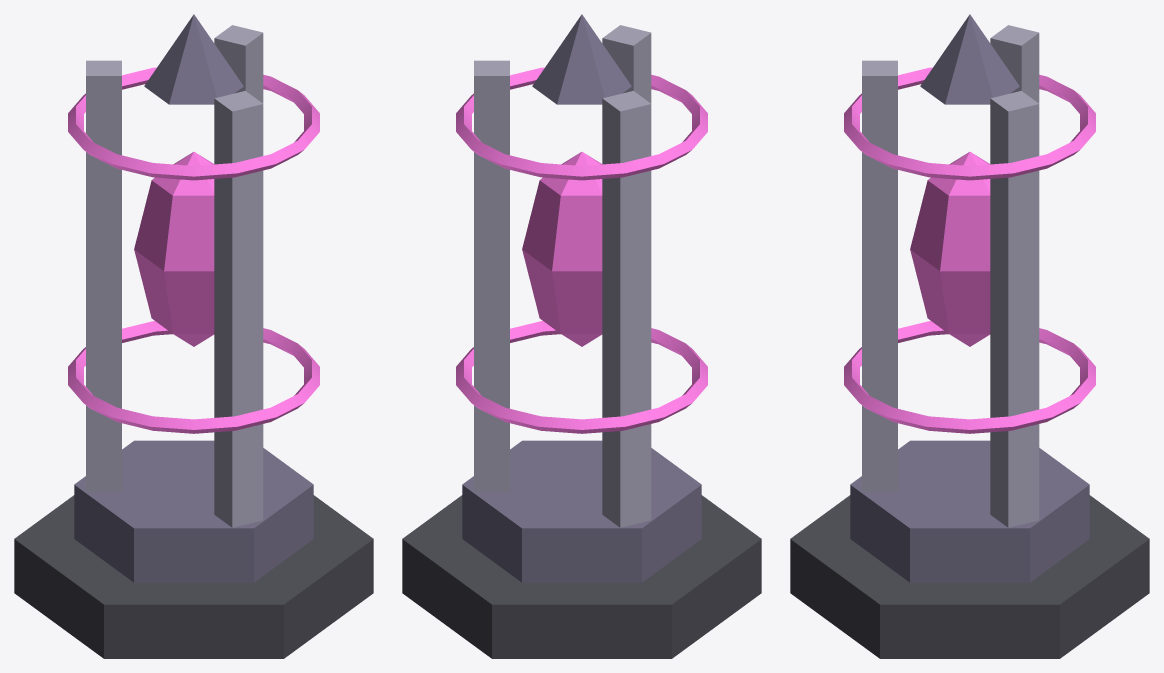
The model's file is sh_pylon_magenta.glb.
3 views of the same model, side by side, from view 1: azimuth 30°, elevation 25°; view 2: azimuth 150°, elevation 25°; view 3: azimuth 270°, elevation 25° (orthographic).
Visible parts, largest first — view 1: sh_pylon_magenta; view 2: sh_pylon_magenta; view 3: sh_pylon_magenta.
Boxes of the visible parts, x1,y1,x2,y2 form: sh_pylon_magenta: (14, 14, 373, 658); sh_pylon_magenta: (402, 14, 761, 658); sh_pylon_magenta: (790, 14, 1149, 658).
Bounding box in the file's own units: 1.56 × 3.2 × 1.8.
